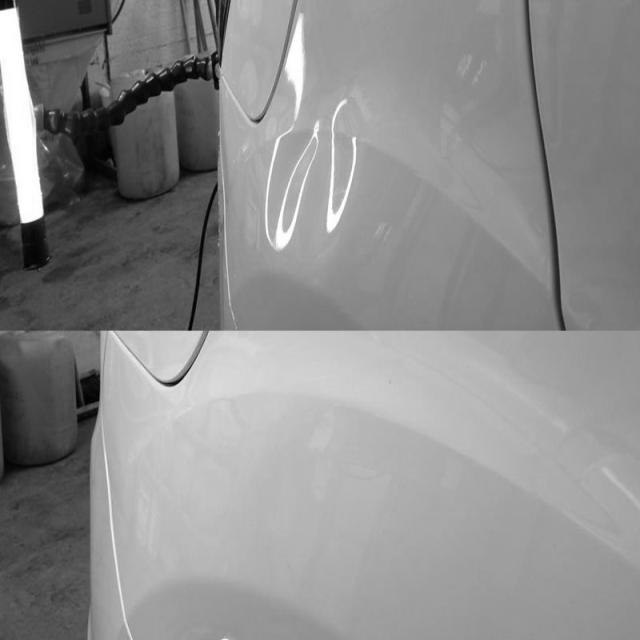dent: (263, 121, 362, 253)
